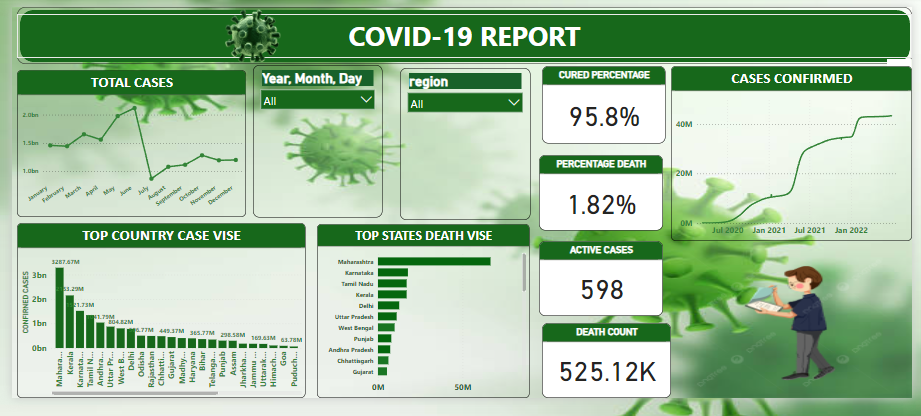

What the dashboard file says about the page in this screenshot:
{"tool":"powerbi","page":{"name":"Page 1","canvas":[1800,782],"ordinal":0},"visuals":[{"type":"shape","box":[9.7,0,1790.3,114.1],"z":0},{"type":"textbox","box":[10,14,1790,88],"z":1000},{"type":"image","box":[348,0,266.8,116],"z":2000},{"type":"clusteredColumnChart","title":"TOP  COUNTRY CASE VISE","fields":{"Y":["Sum(covid_data.confirmed)"],"Category":["covid_data.region"]},"box":[9.1,431.8,576.7,350.2],"z":3000},{"type":"clusteredBarChart","title":"TOP STATES DEATH VISE","fields":{"Category":["covid_data.region"],"Y":["Sum(covid_data.deaths)"]},"box":[611,433.1,425.3,348],"z":4000},{"type":"card","title":"PERCENTAGE DEATH","fields":{"Values":["covid (2).PERCENTAGE DEATH"]},"box":[1053.7,295.9,247.6,151],"z":5000},{"type":"card","title":"ACTIVE CASES","fields":{"Values":["Median(covid (2).ACTIVE CASE)"]},"box":[1054,468,248,150],"z":6000},{"type":"card","title":"DEATH COUNT","fields":{"Values":["covid (2).TOTAL DEATHS"]},"box":[1060,632,258,150],"z":7000},{"type":"lineChart","title":"TOTAL CASES","fields":{"Category":["covid_data.date.Variation.Date Hierarchy.Month"],"Y":["Sum(covid_data.confirmed)"]},"box":[9.2,125.7,458.5,294.4],"z":8000},{"type":"slicer","fields":{"Values":["covid_data.date.Variation.Date Hierarchy.Year","covid_data.date.Variation.Date Hierarchy.Month","covid_data.date.Variation.Date Hierarchy.Day"]},"box":[481.5,115,259.1,305.1],"z":9000},{"type":"card","title":"CURED PERCENTAGE","fields":{"Values":["covid (2).CURED PERCENTAGE"]},"box":[1059.5,117.9,247.5,154.7],"z":10000},{"type":"slicer","fields":{"Values":["covid_data.region"]},"box":[775.9,121.1,260.7,303.6],"z":11000},{"type":"image","box":[1340,482,432,300],"z":12000},{"type":"lineChart","title":"CASES CONFIRMED","fields":{"Y":["Sum(covid_data.confirmed)"],"Category":["covid_data.date"]},"box":[1318,118,482,350],"z":13000}]}

Visuals, with their boxes in screenshot pixels (x1, y1, x2, y2):
shape: locate(12, 5, 915, 62)
textbox: locate(12, 12, 915, 56)
image: locate(183, 5, 317, 63)
"TOP  COUNTRY CASE VISE" clusteredColumnChart: locate(12, 223, 303, 399)
"TOP STATES DEATH VISE" clusteredBarChart: locate(316, 223, 530, 399)
"PERCENTAGE DEATH" card: locate(539, 154, 664, 230)
"ACTIVE CASES" card: locate(539, 241, 664, 317)
"DEATH COUNT" card: locate(542, 324, 672, 399)
"TOTAL CASES" lineChart: locate(12, 68, 243, 217)
slicer - covid_data.date.Variation.Date Hierarchy.Year x covid_data.date.Variation.Date Hierarchy.Month: locate(250, 63, 381, 217)
"CURED PERCENTAGE" card: locate(542, 64, 667, 142)
slicer - covid_data.region: locate(399, 66, 530, 219)
image: locate(683, 248, 901, 399)
"CASES CONFIRMED" lineChart: locate(672, 64, 915, 241)
